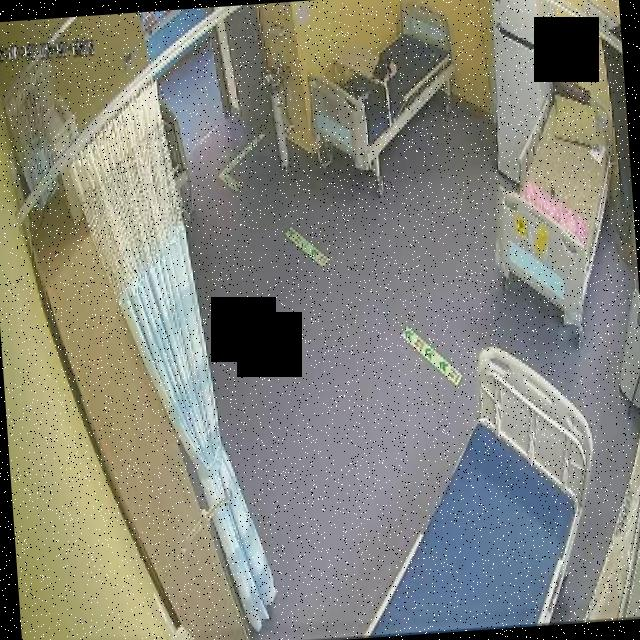bed: (345, 340, 605, 635), (481, 75, 626, 313), (301, 0, 462, 174)
